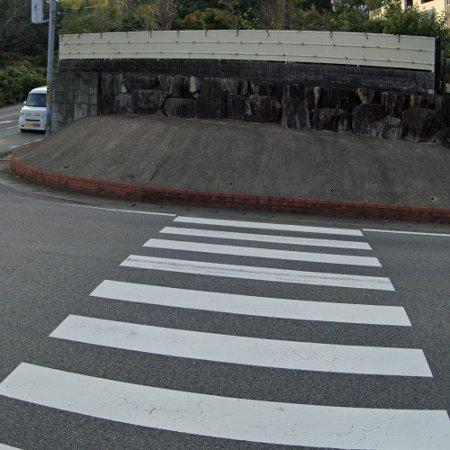crosswalks: (0, 211, 450, 450)
